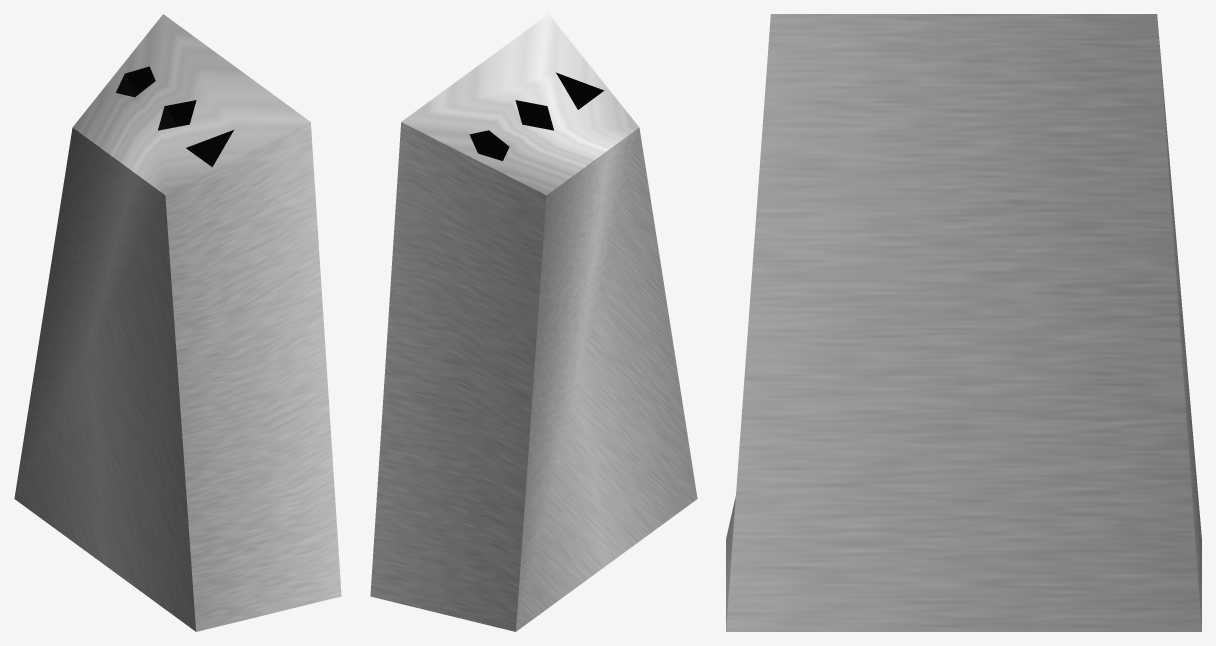
The model's file is console.gltf.
The picture shows the model from 3 angles, left to right: view 1: azimuth 30°, elevation 25°; view 2: azimuth 150°, elevation 25°; view 3: azimuth 270°, elevation 25°; orthographic projection. The views are drawn at different scales.
Parts seen in each view (by area): view 1: Cube; view 2: Cube; view 3: Cube.
Part boxes in pixels (<box>): Cube: <box>14,14,341,631</box>; Cube: <box>370,14,697,631</box>; Cube: <box>726,14,1201,631</box>.
Bounding box in the file's own units: 3.07 × 9.37 × 6.64.
Materials: 2 (1 with a texture image).
